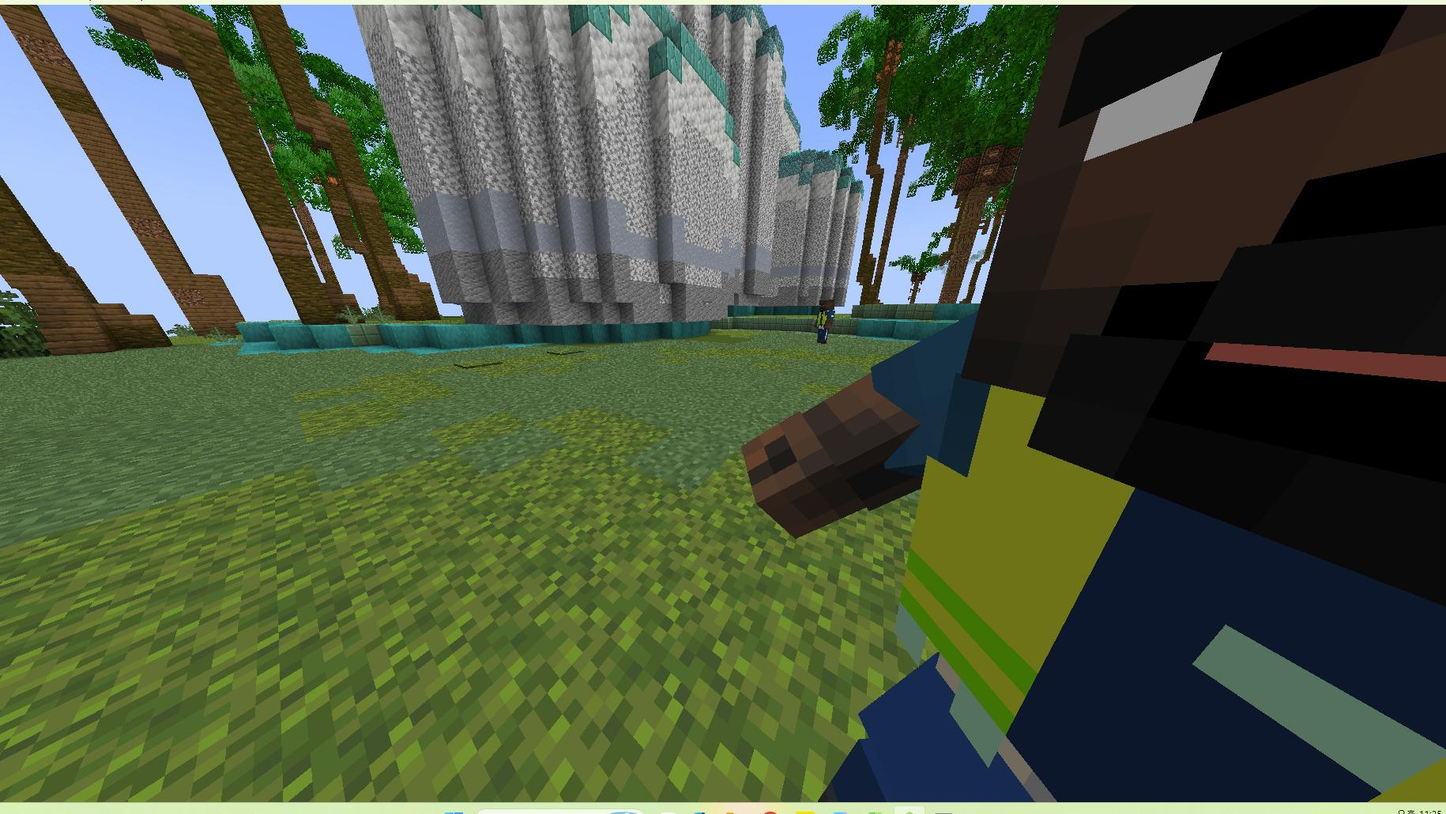Guardian: (743, 6, 1446, 801), (813, 298, 837, 343)
